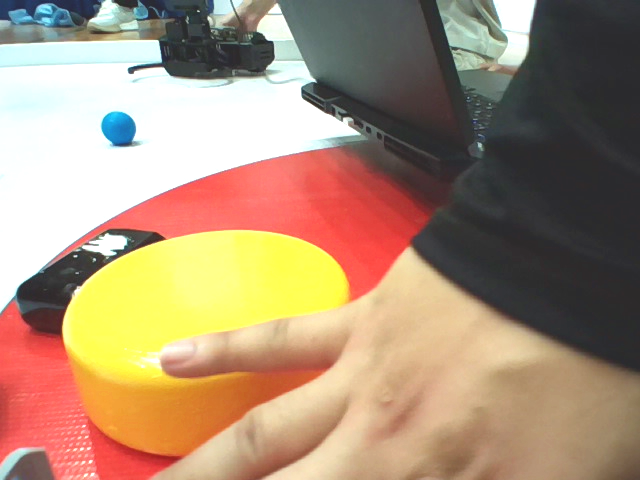black: (6, 222, 172, 323)
blue: (89, 105, 157, 159)
yellow: (67, 233, 390, 460)
